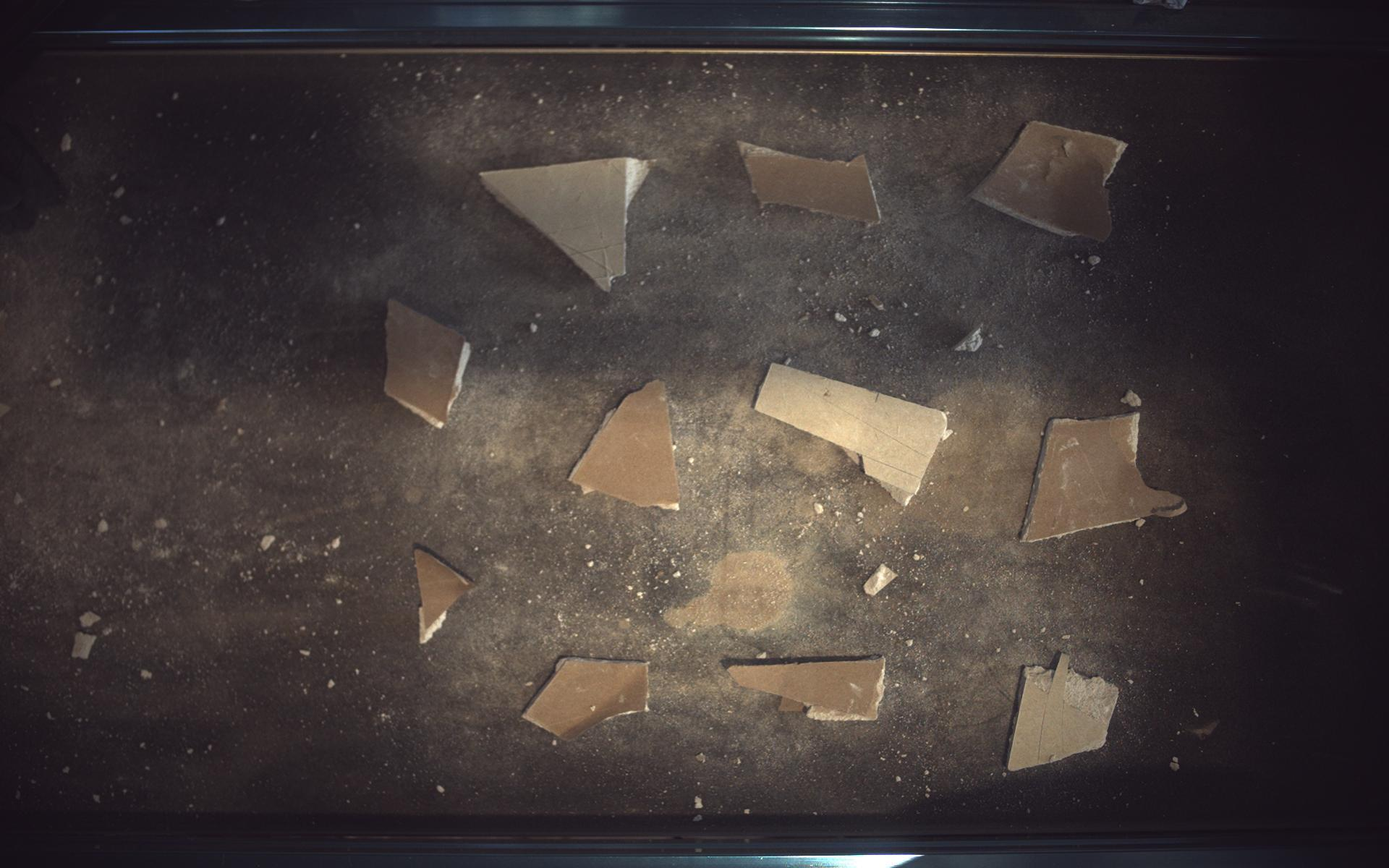gypsum_board: (756, 363, 951, 506), (480, 156, 651, 291), (1023, 412, 1189, 542), (973, 121, 1129, 239), (569, 380, 680, 511), (1009, 655, 1121, 772), (739, 140, 882, 224), (385, 299, 471, 428), (524, 659, 650, 741), (729, 658, 887, 723), (414, 547, 475, 644)
